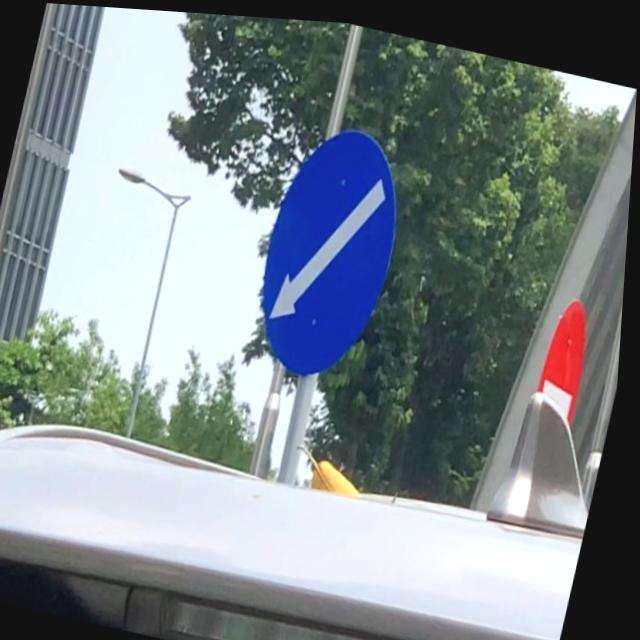Vong chuong ngai vat sang trai: (241, 105, 426, 392)
